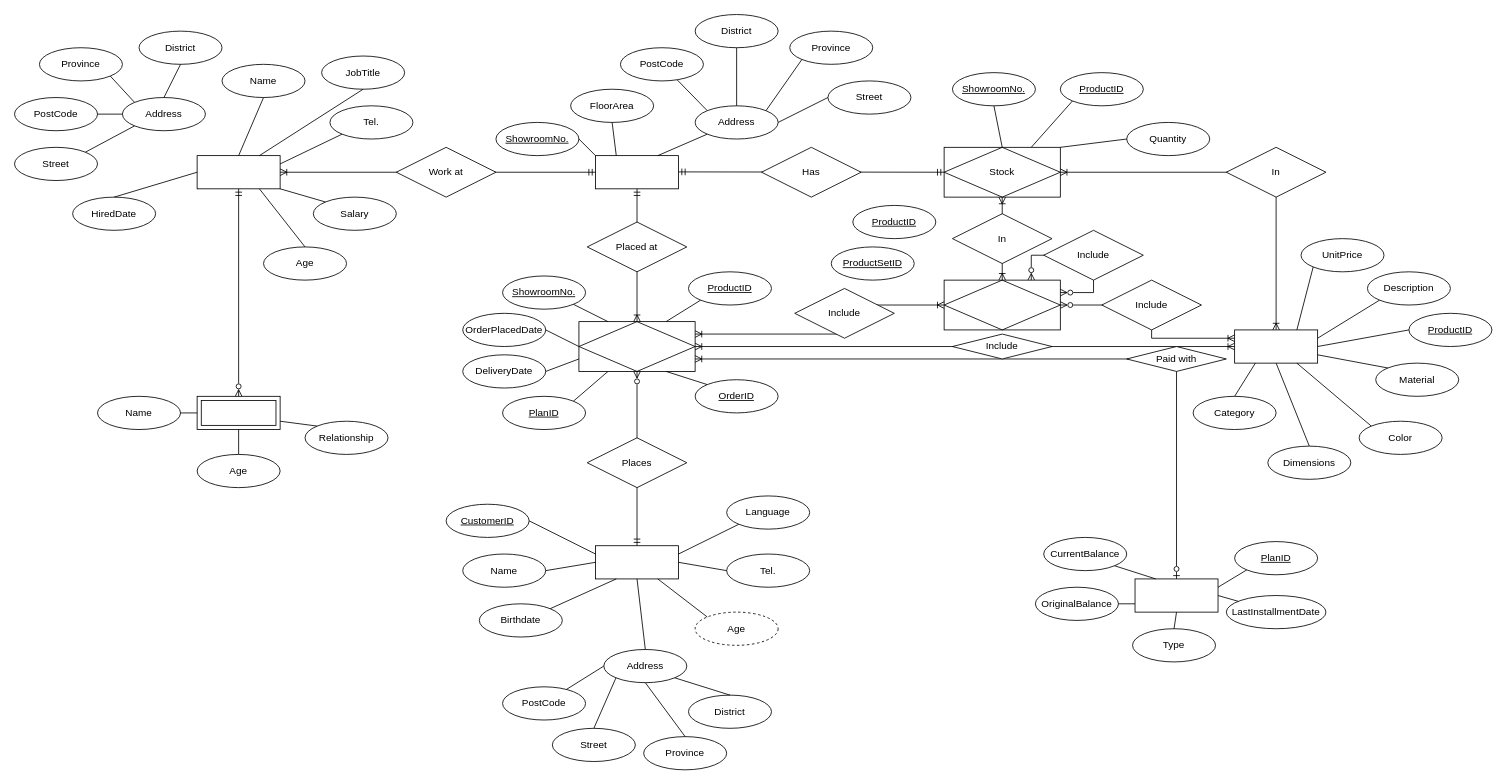
Some shapes in this 1506 by 784 pixel diagram are drawn without their labels. The shapes that lost their labels are listed below. From the top down, each one's box as (x1, y1, x2, y2) in pixels, then its label:
(196, 155, 280, 189): Employee
(595, 155, 679, 189): Showroom
(943, 279, 1060, 330): ProductSet
(578, 321, 695, 371): Purchase Order
(1234, 329, 1318, 363): Product
(196, 395, 280, 430): Dependent
(595, 545, 679, 579): Customer
(1134, 578, 1218, 612): Credit Plan
